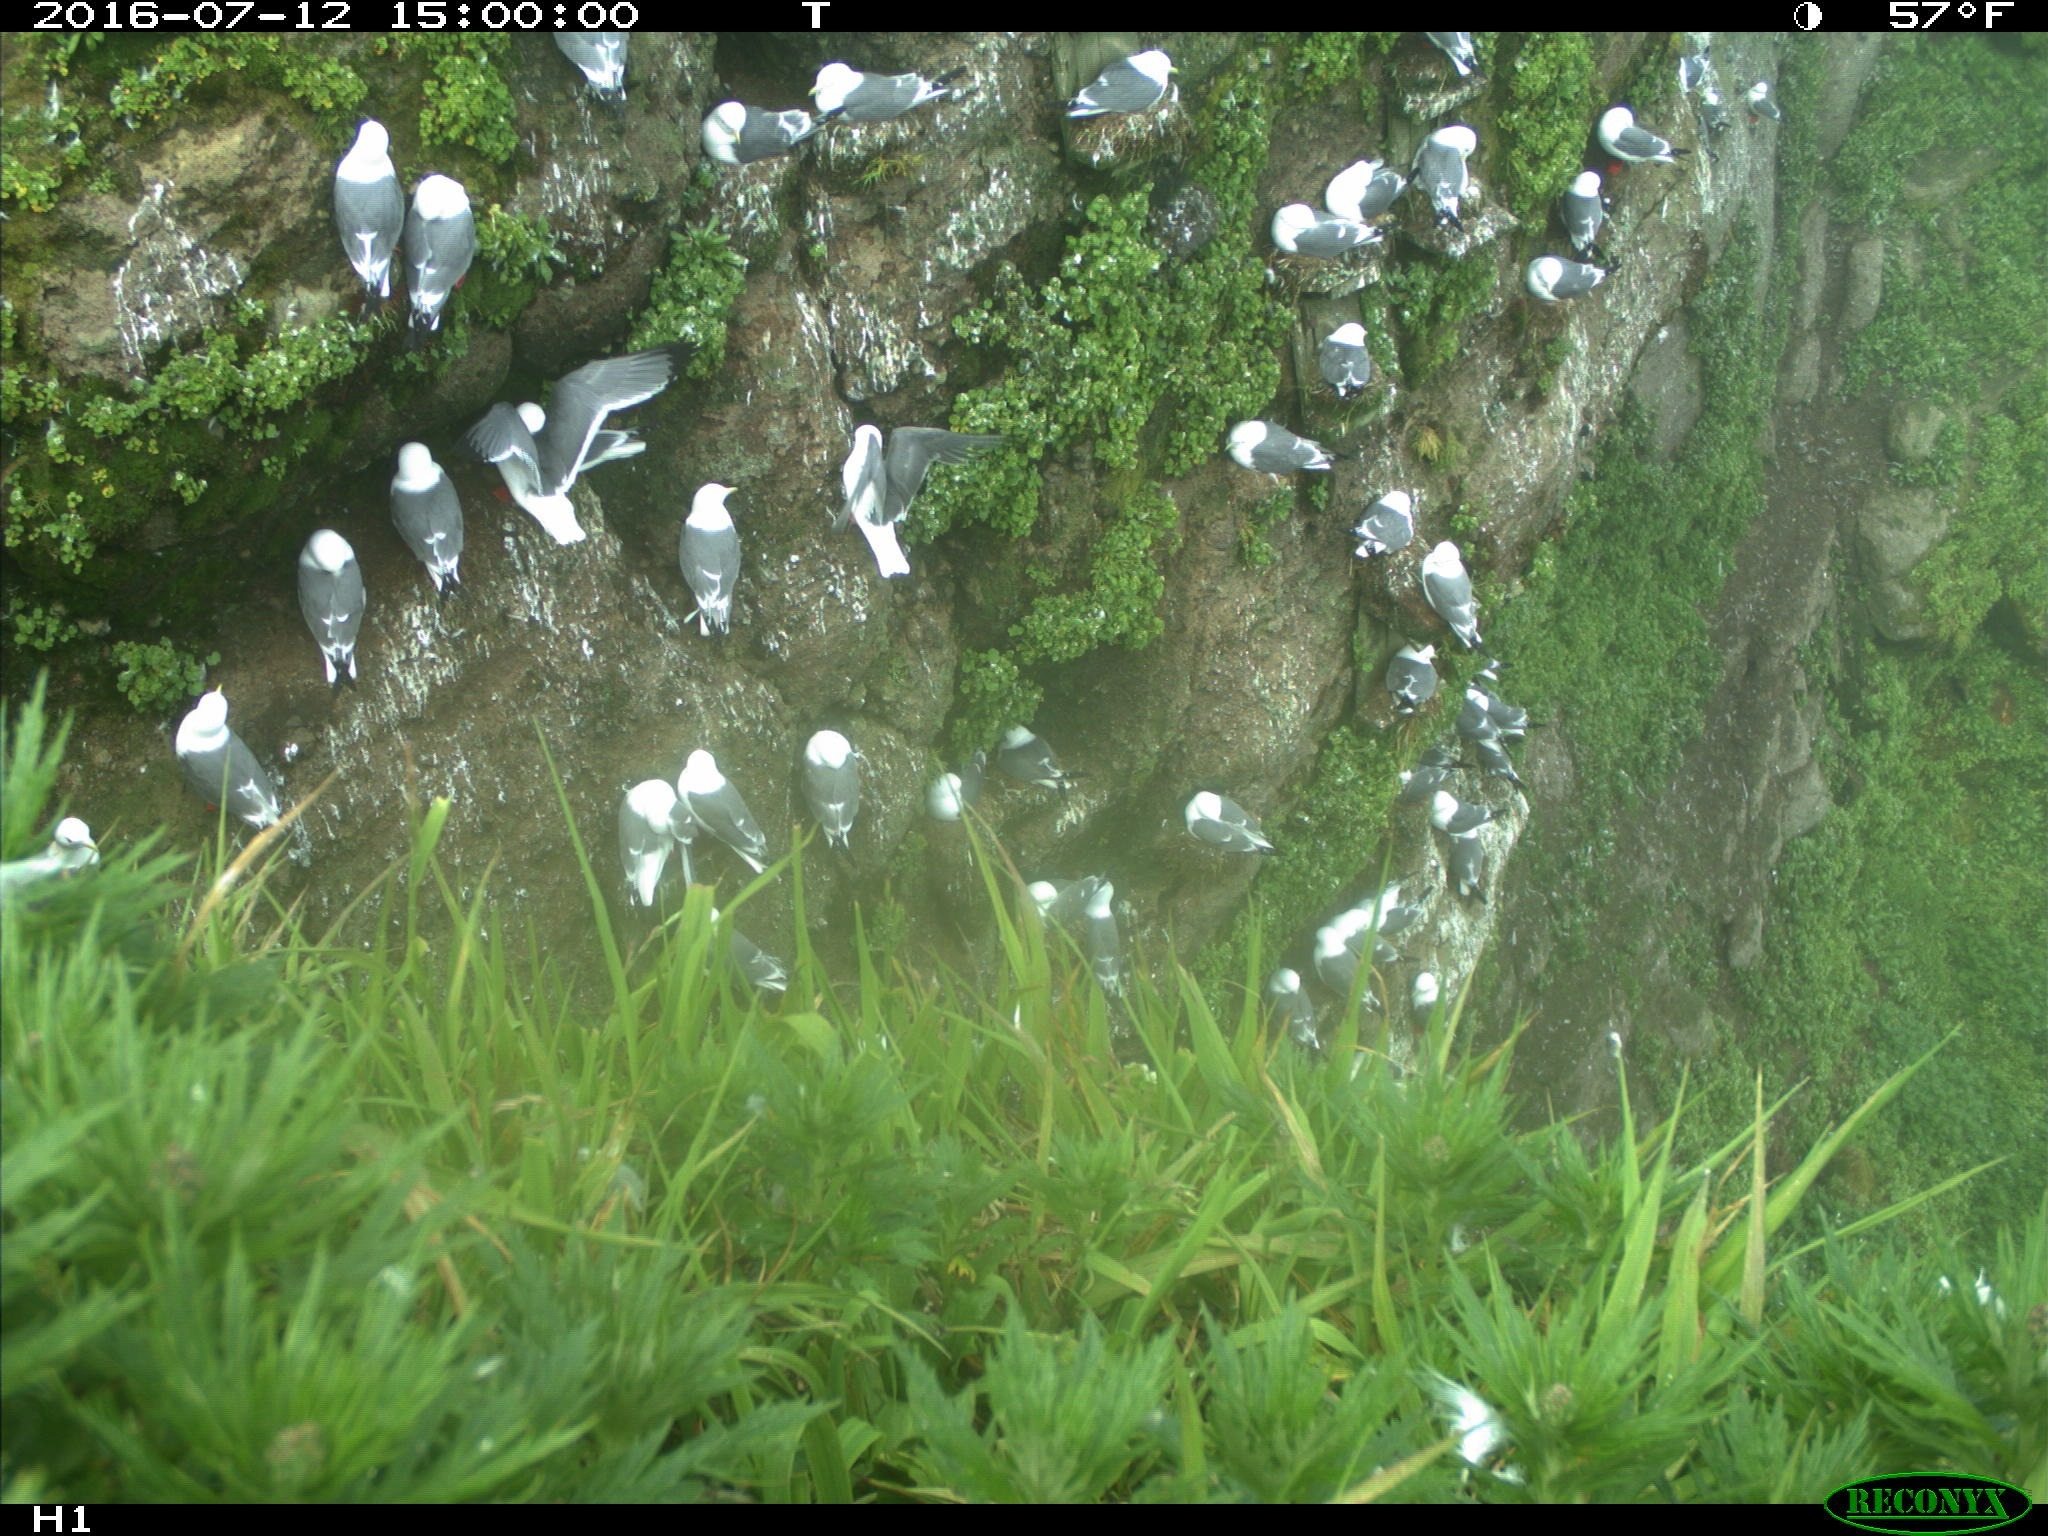Kittiwake: (445, 324, 693, 573), (793, 390, 1014, 608), (153, 676, 319, 858), (371, 399, 489, 615), (276, 502, 398, 703), (324, 97, 427, 331), (658, 465, 789, 644), (398, 140, 493, 332), (1243, 182, 1413, 282), (1153, 768, 1313, 871), (669, 79, 835, 174), (1047, 32, 1203, 132), (780, 708, 884, 855), (1192, 394, 1342, 492), (0, 791, 145, 892), (603, 755, 698, 908), (682, 892, 814, 1000), (1405, 100, 1492, 250), (1572, 89, 1709, 182), (685, 753, 782, 886), (800, 66, 976, 132), (985, 694, 1101, 792), (535, 31, 661, 116), (1405, 532, 1500, 645), (1259, 955, 1347, 1078), (1077, 858, 1150, 1004), (1300, 298, 1400, 402), (1297, 921, 1397, 1020), (1313, 137, 1421, 227), (1521, 242, 1634, 323), (1546, 153, 1622, 269), (1342, 858, 1463, 929), (1316, 900, 1435, 970), (1442, 671, 1542, 753), (1371, 605, 1437, 724), (1397, 778, 1517, 842), (1335, 481, 1434, 558), (1438, 808, 1514, 908), (1008, 854, 1079, 954), (929, 758, 1024, 833), (1455, 721, 1538, 800), (1395, 27, 1500, 81), (1663, 37, 1734, 115), (1397, 971, 1485, 1033), (1387, 745, 1458, 800), (1742, 66, 1796, 132)
